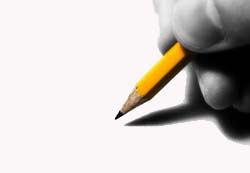pen_tip: (113, 77, 151, 126)
